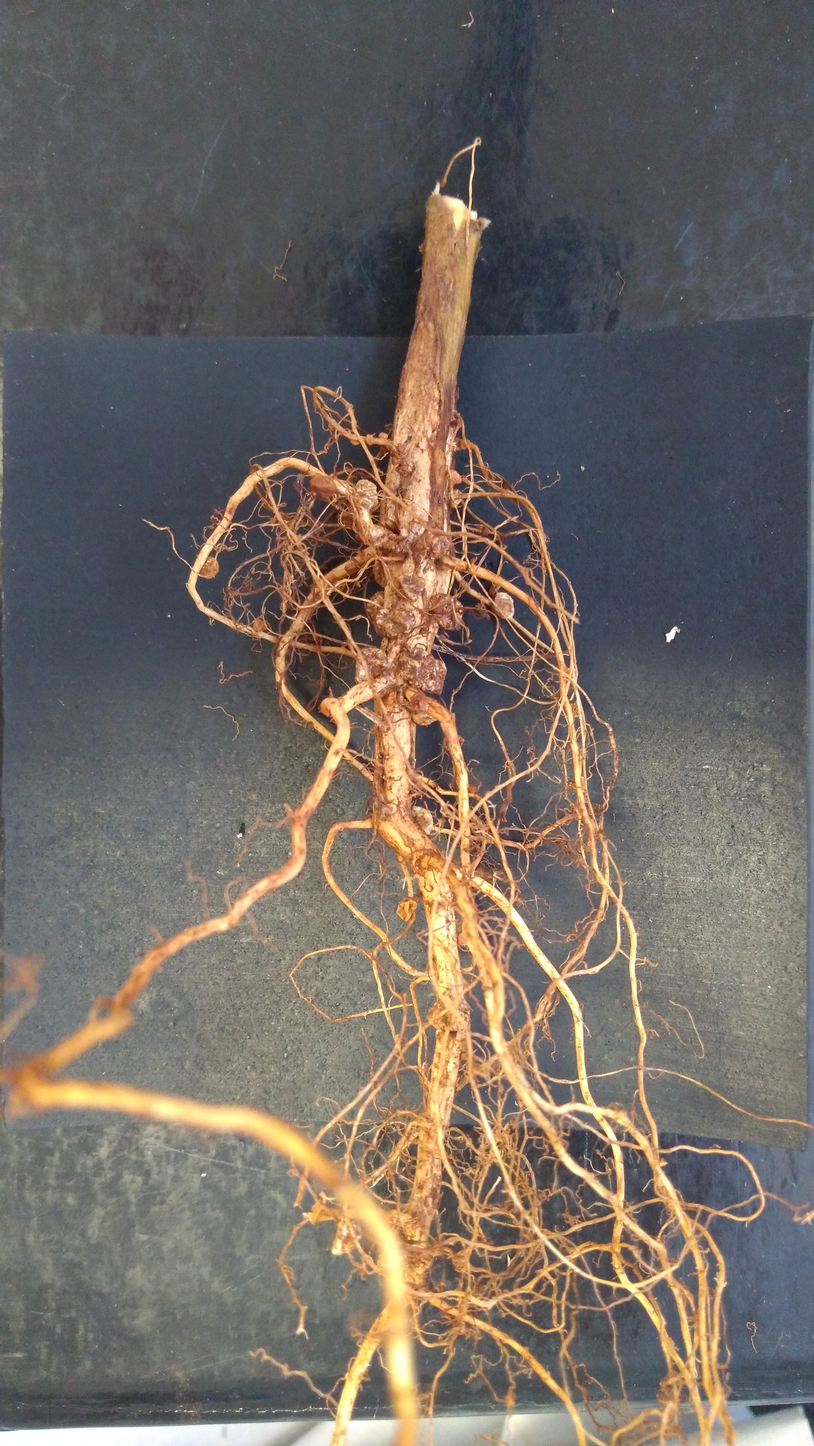nodule: (425, 994, 470, 1031), (427, 592, 465, 632), (408, 659, 447, 696), (398, 649, 436, 682), (331, 1219, 363, 1256), (355, 646, 387, 683), (391, 573, 428, 603), (416, 530, 450, 561), (308, 474, 338, 501), (491, 591, 516, 621), (355, 478, 379, 509), (411, 804, 434, 836), (365, 591, 386, 621), (391, 609, 416, 634), (395, 896, 418, 922), (198, 555, 220, 580), (373, 607, 391, 637), (409, 709, 439, 727), (405, 692, 429, 712), (311, 1202, 333, 1223), (372, 562, 388, 587), (441, 734, 465, 750), (448, 487, 463, 509), (457, 931, 471, 947), (253, 618, 268, 632), (394, 465, 409, 478), (385, 623, 398, 637), (566, 666, 579, 680), (344, 562, 358, 574), (412, 777, 424, 790), (456, 438, 468, 450), (327, 418, 337, 430), (350, 434, 360, 446), (365, 434, 374, 445), (397, 442, 406, 453), (378, 431, 388, 440), (391, 457, 400, 466), (481, 528, 489, 537), (475, 524, 483, 530)
